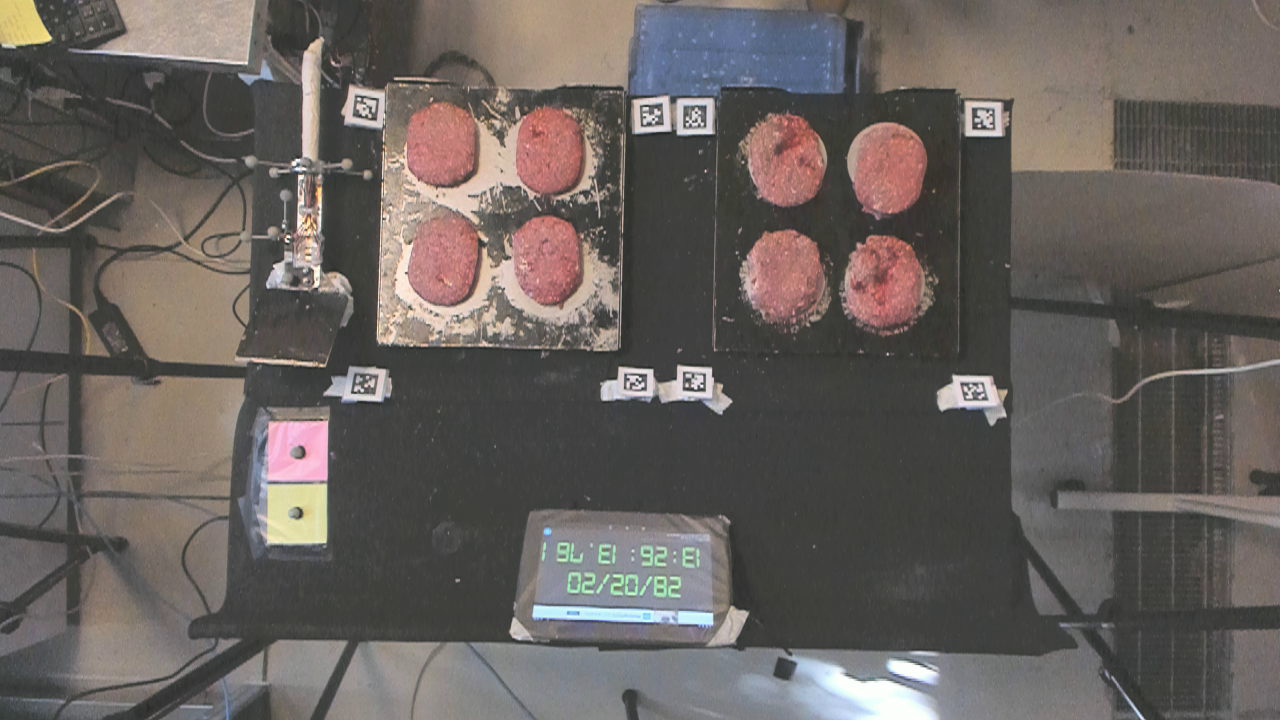hamburger: (843, 229, 925, 328), (845, 128, 927, 219), (749, 114, 829, 206), (746, 232, 820, 325), (516, 100, 586, 195), (407, 217, 480, 306), (405, 102, 478, 189), (516, 214, 577, 308)
marker: (265, 420, 332, 481)
